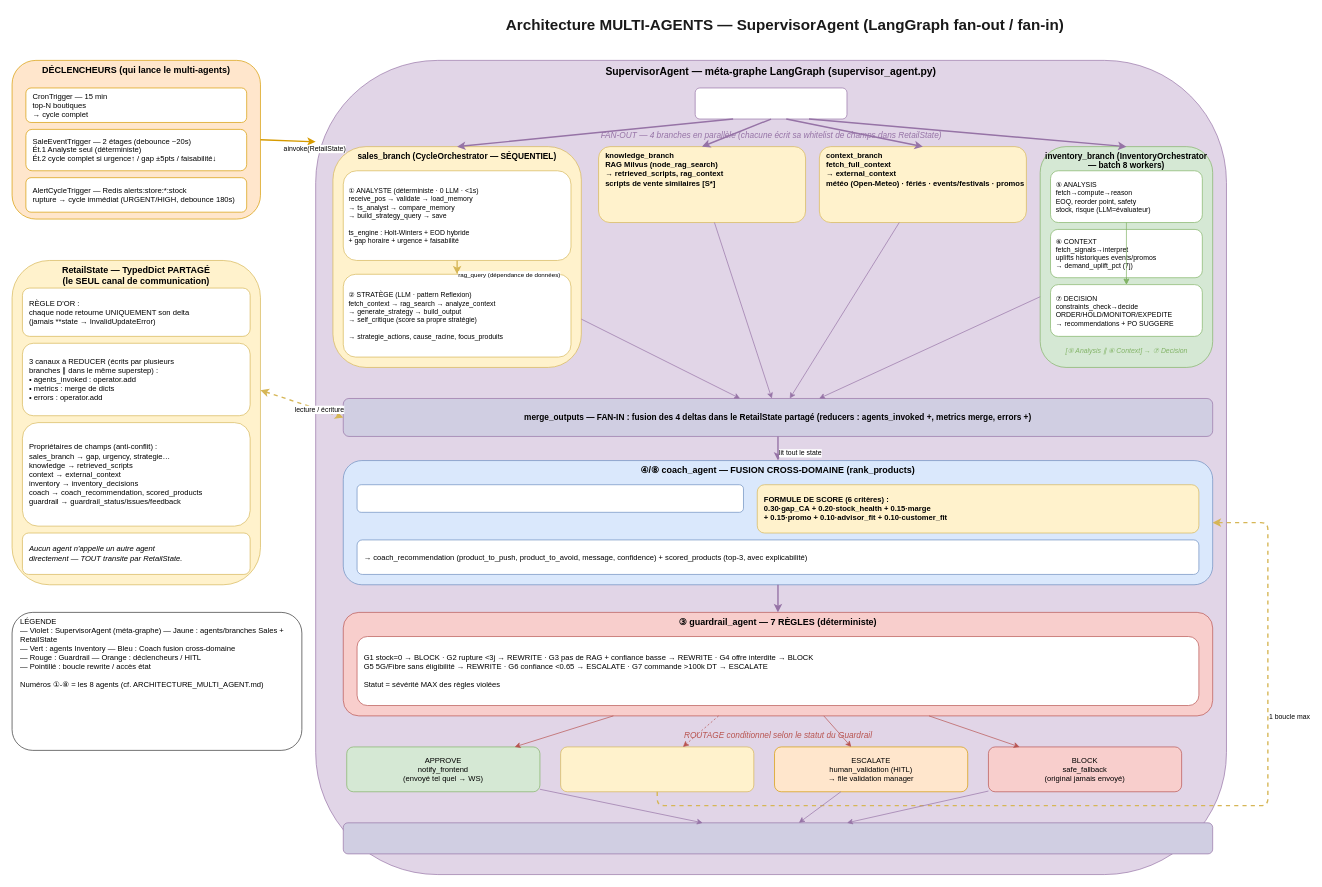
Image size: 1322x887. Some labels were removed from this diagram. The centre of each missing label's shape, as x and y in pixels:
"get_sales_context ∥ get_recommendable_products ∥ retrieve_advisor_history" belongs at point 549,498.
"initialize_state (génère cycle_id)" belongs at point 770,103.
"REWRITE retour coach_agent (max 1 boucle, avec feedback)" belongs at point 657,769.
"save_memory → coach_interactions (mémoire → alimente le RAG futur) → END" belongs at point 778,838.
